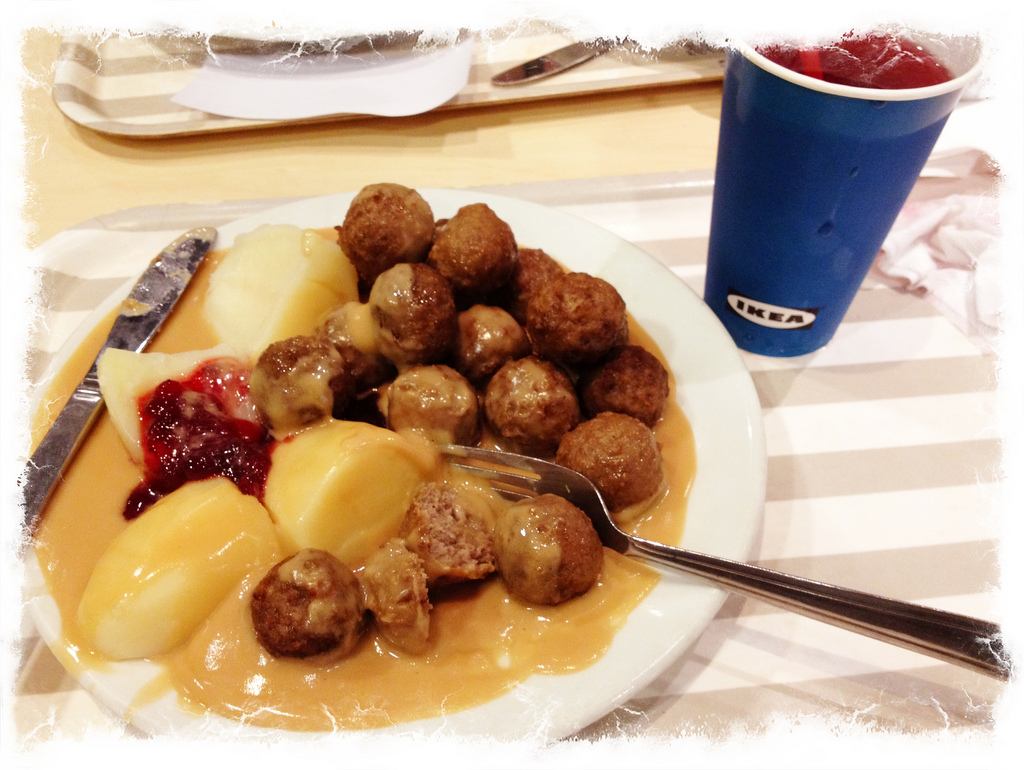boiled potatoes: (88, 472, 246, 667), (264, 428, 429, 558), (212, 232, 347, 345)
meatballs: (242, 549, 375, 654), (518, 252, 630, 363), (489, 495, 594, 604), (566, 410, 663, 510), (253, 325, 351, 420), (418, 485, 497, 592), (482, 354, 574, 440), (583, 340, 670, 420), (346, 184, 434, 263), (379, 271, 451, 358), (448, 297, 526, 375), (436, 214, 511, 292), (394, 365, 474, 433)
